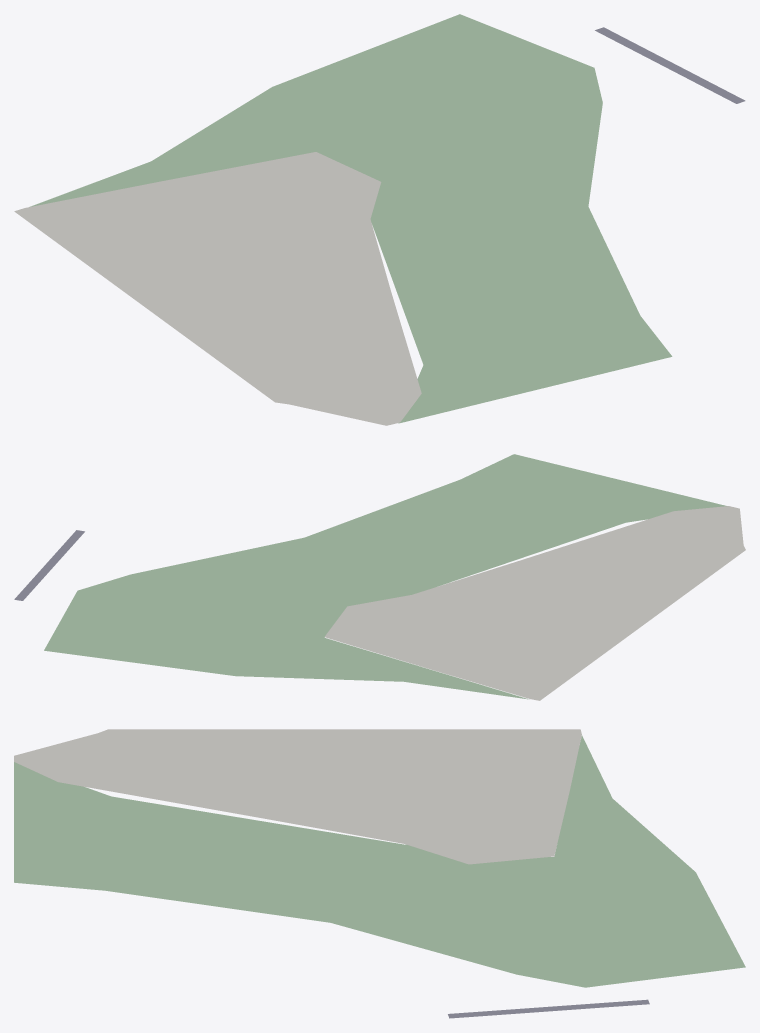
The model's file is 126_130_mid.glb.
The picture shows the model from 3 angles, top to bottom: view 1: azimuth 30°, elevation 25°; view 2: azimuth 150°, elevation 25°; view 3: azimuth 270°, elevation 25°; orthographic projection. The views are drawn at different scales.
Size of the model in its own units: 441 by 2.32 by 468.
